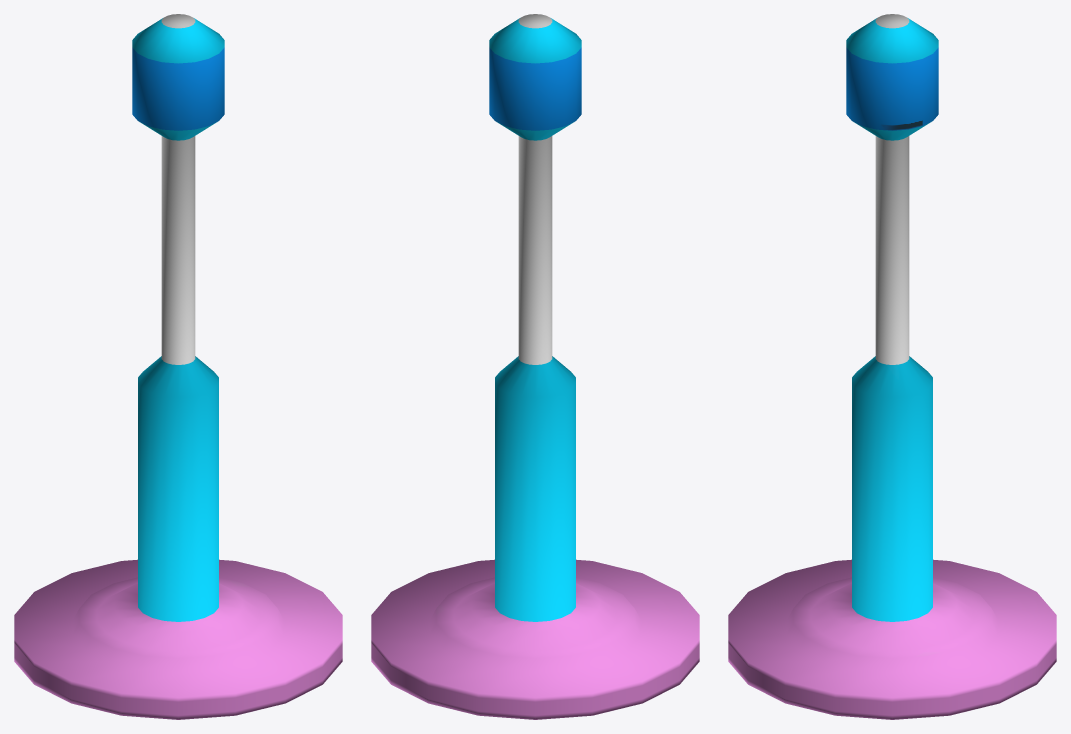
3 views of the same model, side by side, from view 1: azimuth 30°, elevation 25°; view 2: azimuth 150°, elevation 25°; view 3: azimuth 270°, elevation 25° (orthographic).
Parts seen in each view (by area): view 1: Cylinder001; view 2: Cylinder001; view 3: Cylinder001.
Boxes of the visible parts, left/top/right/bottom form: Cylinder001: left=14, top=14, right=342, bottom=719; Cylinder001: left=371, top=14, right=699, bottom=719; Cylinder001: left=728, top=14, right=1056, bottom=719.
Bounding box in the file's own units: 56.57 × 118 × 55.71.
